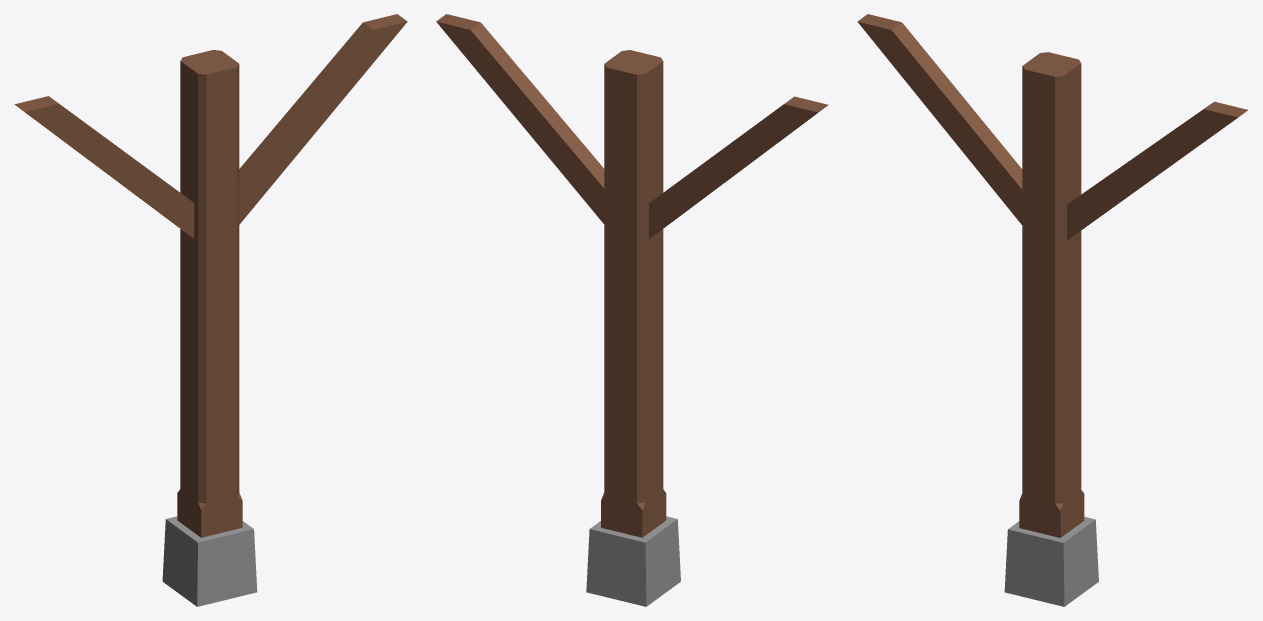
Rendered from Column_2.fbx.
3 renders of one model, left to right at view 1: azimuth 30°, elevation 25°; view 2: azimuth 150°, elevation 25°; view 3: azimuth 330°, elevation 25°, orthographic.
Parts seen in each view (by area): view 1: Stützpfeiler_2; view 2: Stützpfeiler_2; view 3: Stützpfeiler_2.
Boxes of the visible parts, left/top/right/bottom form: Stützpfeiler_2: left=14, top=14, right=407, bottom=606; Stützpfeiler_2: left=436, top=14, right=828, bottom=606; Stützpfeiler_2: left=857, top=14, right=1247, bottom=606.
Bounding box in the file's own units: 360 × 472 × 56.55.
Materials: 1 (1 with a texture image).
